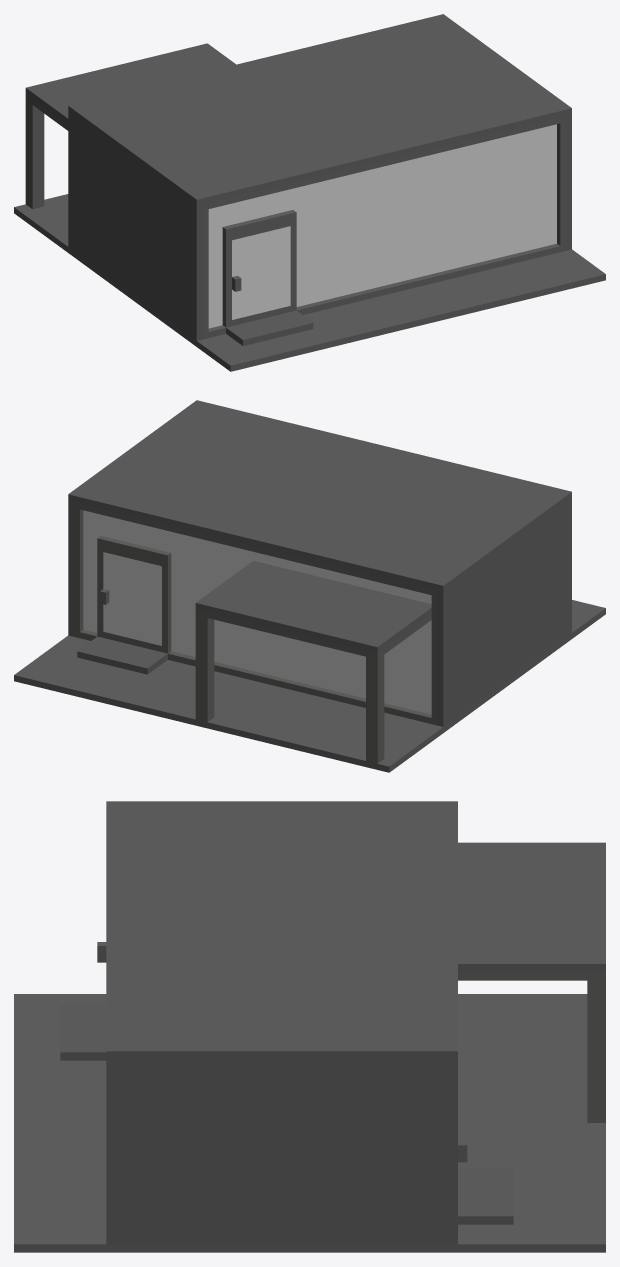
Rendered from bld_house2c.obj.
The picture shows the model from 3 angles, top to bottom: view 1: azimuth 30°, elevation 25°; view 2: azimuth 150°, elevation 25°; view 3: azimuth 270°, elevation 25°; orthographic projection. The views are drawn at different scales.
Size of the model in its own units: 64 by 24 by 64.
